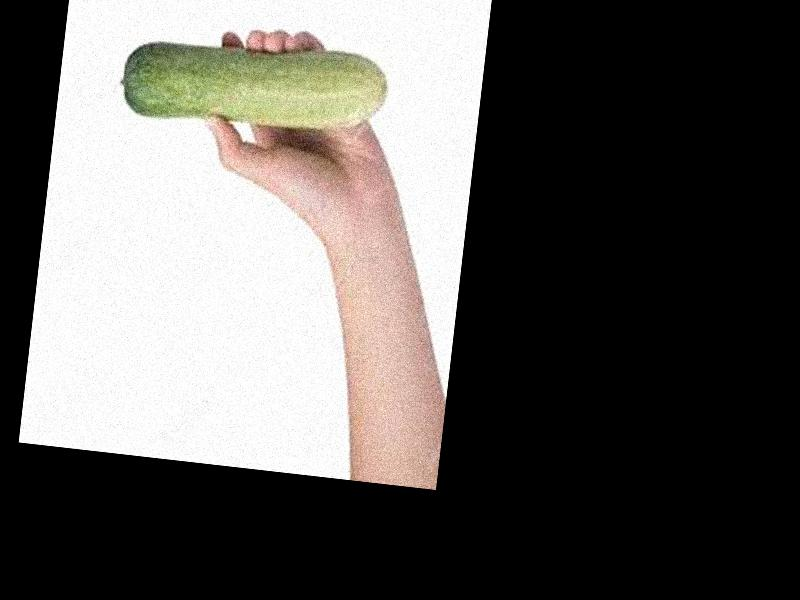Cucumber: (115, 30, 392, 148)
